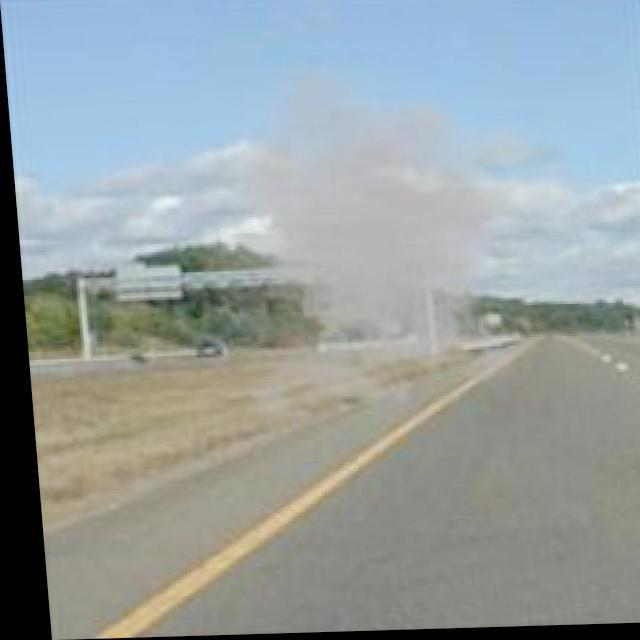Smoke: (215, 66, 582, 442)
